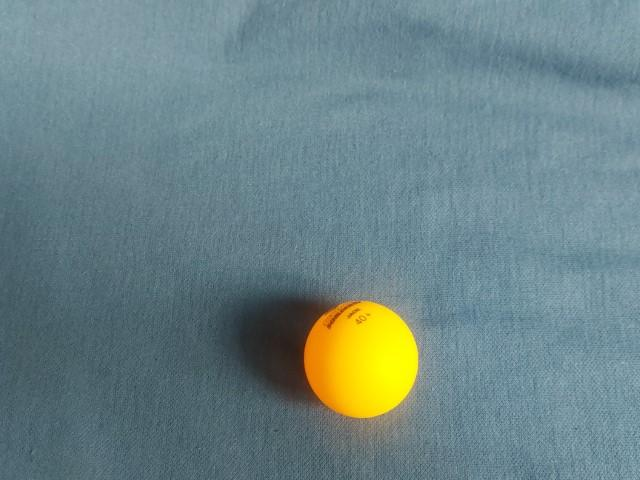oball: (215, 56, 342, 185)
